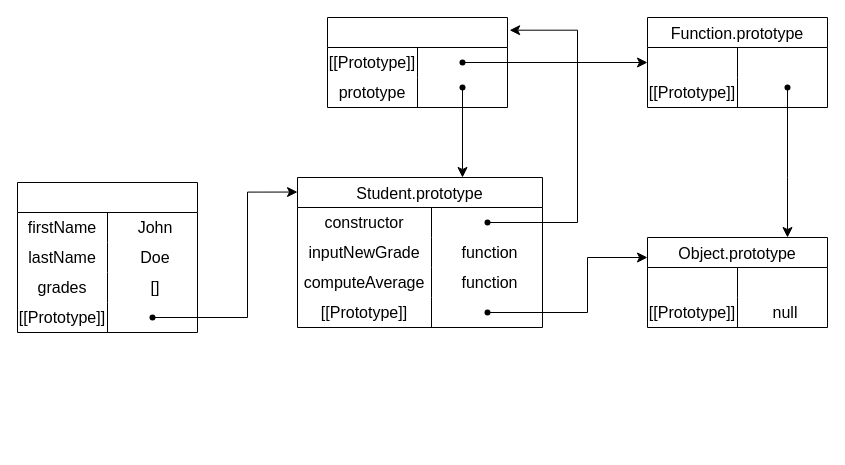
Some shapes in this 845 by 465 pixel diagram are drawn without their labels. The shapes that lost their labels are listed below. From the top down, each one's box as (x1, y1, x2, y2) in pixels, then its label:
(326, 16, 508, 108): Student
(16, 182, 198, 332): John Doe
